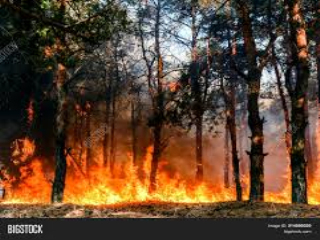fire: (5, 136, 229, 207)
